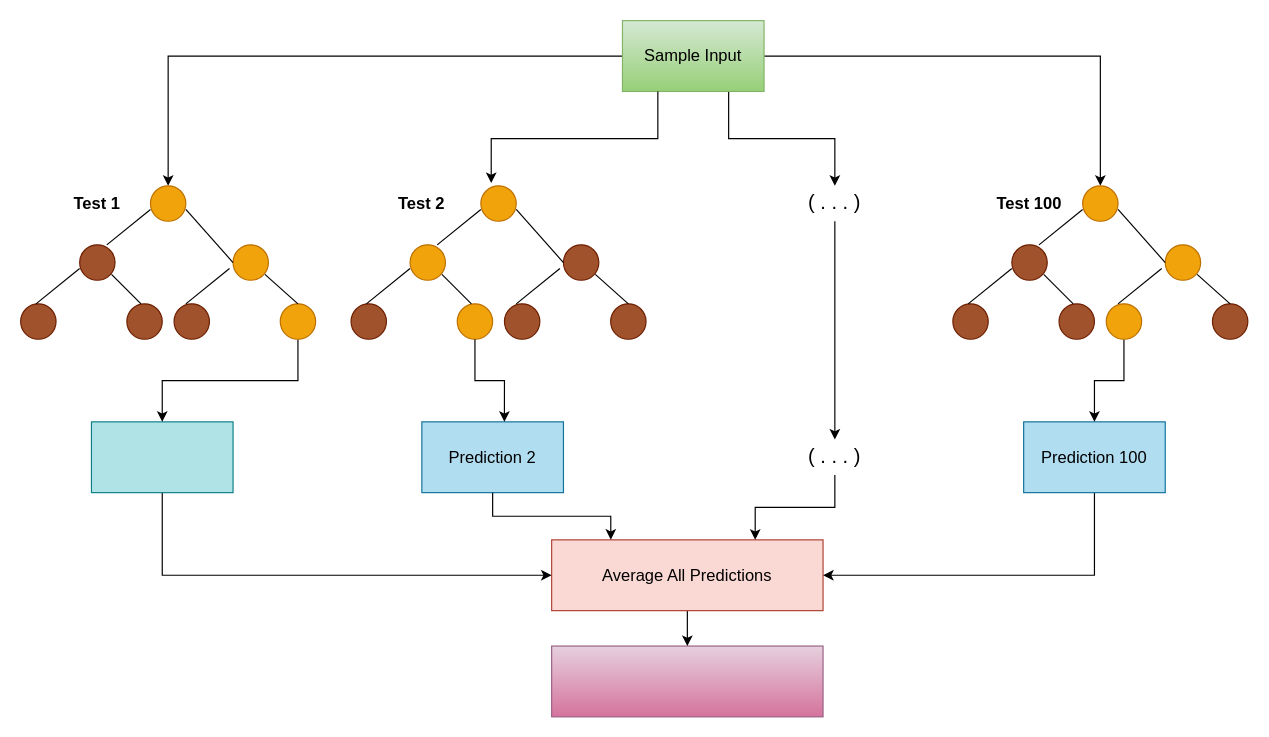
This 1269x737 diagram has some shape labels left out. The shapes that lost their labels are listed below. From the top down, each one's centre as x and y in pixels, then its label:
At (161,457): "Prediction 1".
At (686,681): "Random Forest Prediction".
